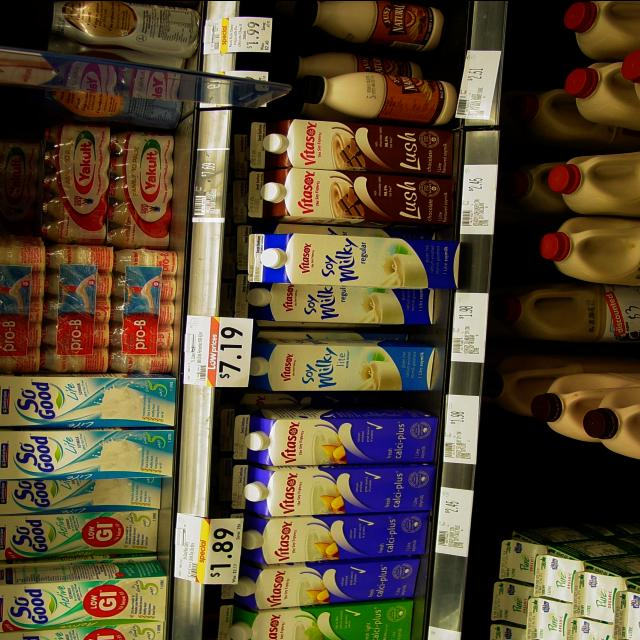empty_space: (492, 453, 640, 531), (507, 4, 559, 84), (499, 224, 545, 280), (175, 106, 193, 242), (156, 478, 171, 562)
